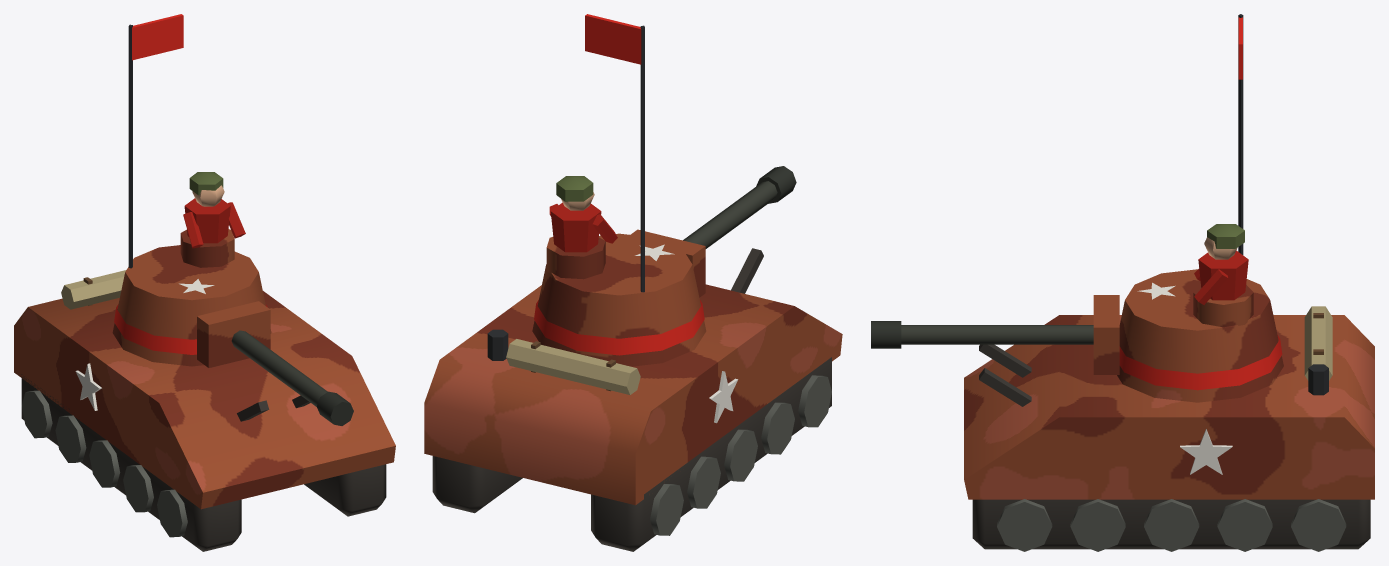
File: assault_dl6_red.glb
3 views of the same model, side by side, from view 1: azimuth 30°, elevation 25°; view 2: azimuth 150°, elevation 25°; view 3: azimuth 270°, elevation 25° (orthographic). The views are drawn at different scales.
Parts seen in each view (by area): view 1: assault_dl6_red; view 2: assault_dl6_red; view 3: assault_dl6_red.
Boxes of the visible parts, <box> form: assault_dl6_red: <box>14,14,395,551</box>; assault_dl6_red: <box>424,14,842,551</box>; assault_dl6_red: <box>871,14,1374,551</box>.
Size of the model in its own units: 0.296 by 0.595 by 0.5825.
1 material, 1 textured.
